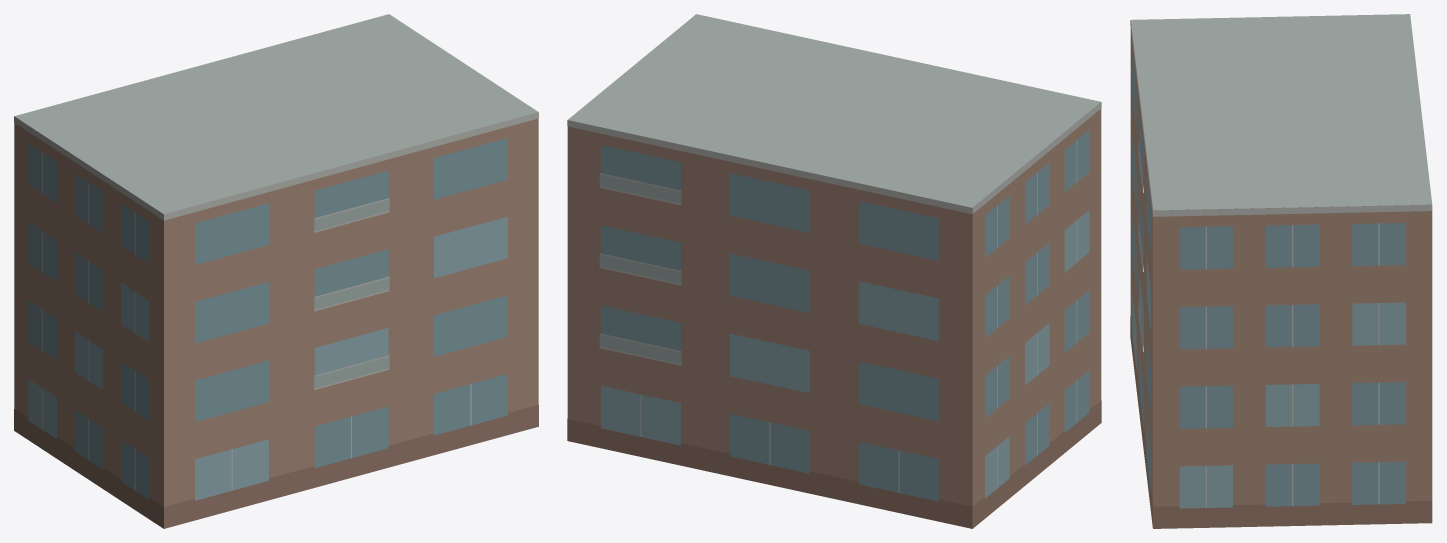
Rendered from residential-8833c018-d0cd-47b6-a61a-29a166d8a278.glb.
3 views of the same model, side by side, from view 1: azimuth 30°, elevation 25°; view 2: azimuth 150°, elevation 25°; view 3: azimuth 270°, elevation 25° (orthographic). The views are drawn at different scales.
Visible parts, largest first — view 1: residential-8833c018-d0cd-47b6-a61a-29a166d8a278.tmp; view 2: residential-8833c018-d0cd-47b6-a61a-29a166d8a278.tmp; view 3: residential-8833c018-d0cd-47b6-a61a-29a166d8a278.tmp.
Part boxes in pixels (x1,y1,x2,y2): residential-8833c018-d0cd-47b6-a61a-29a166d8a278.tmp: (14, 14, 538, 528); residential-8833c018-d0cd-47b6-a61a-29a166d8a278.tmp: (567, 14, 1101, 528); residential-8833c018-d0cd-47b6-a61a-29a166d8a278.tmp: (1130, 14, 1432, 528).
Size of the model in its own units: 16.15 by 12.2 by 10.49.
